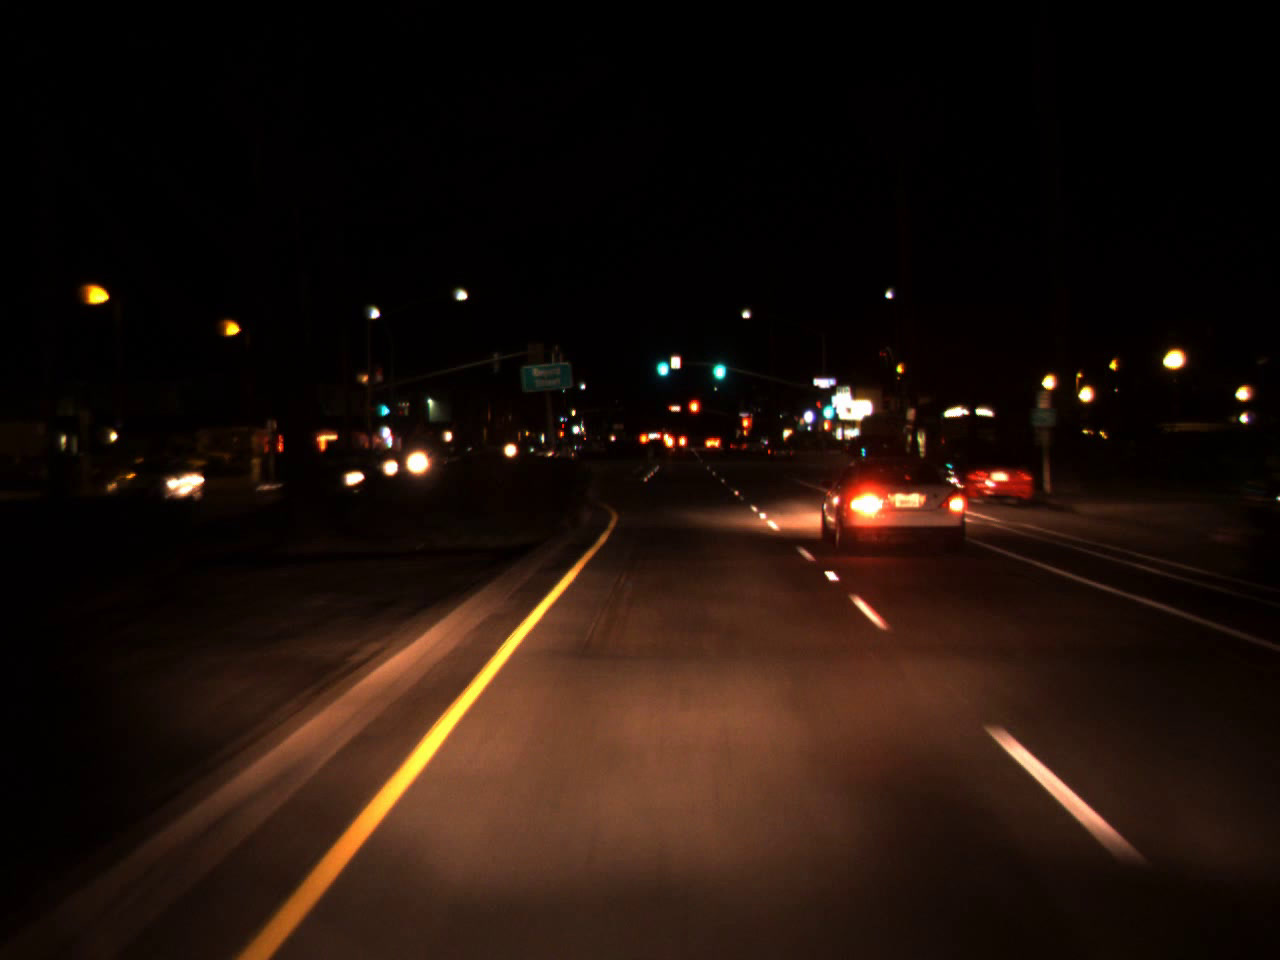go: (708, 346, 727, 385), (653, 345, 671, 381), (819, 388, 837, 424), (379, 392, 388, 419)
stop: (686, 397, 701, 429), (740, 415, 750, 442)
